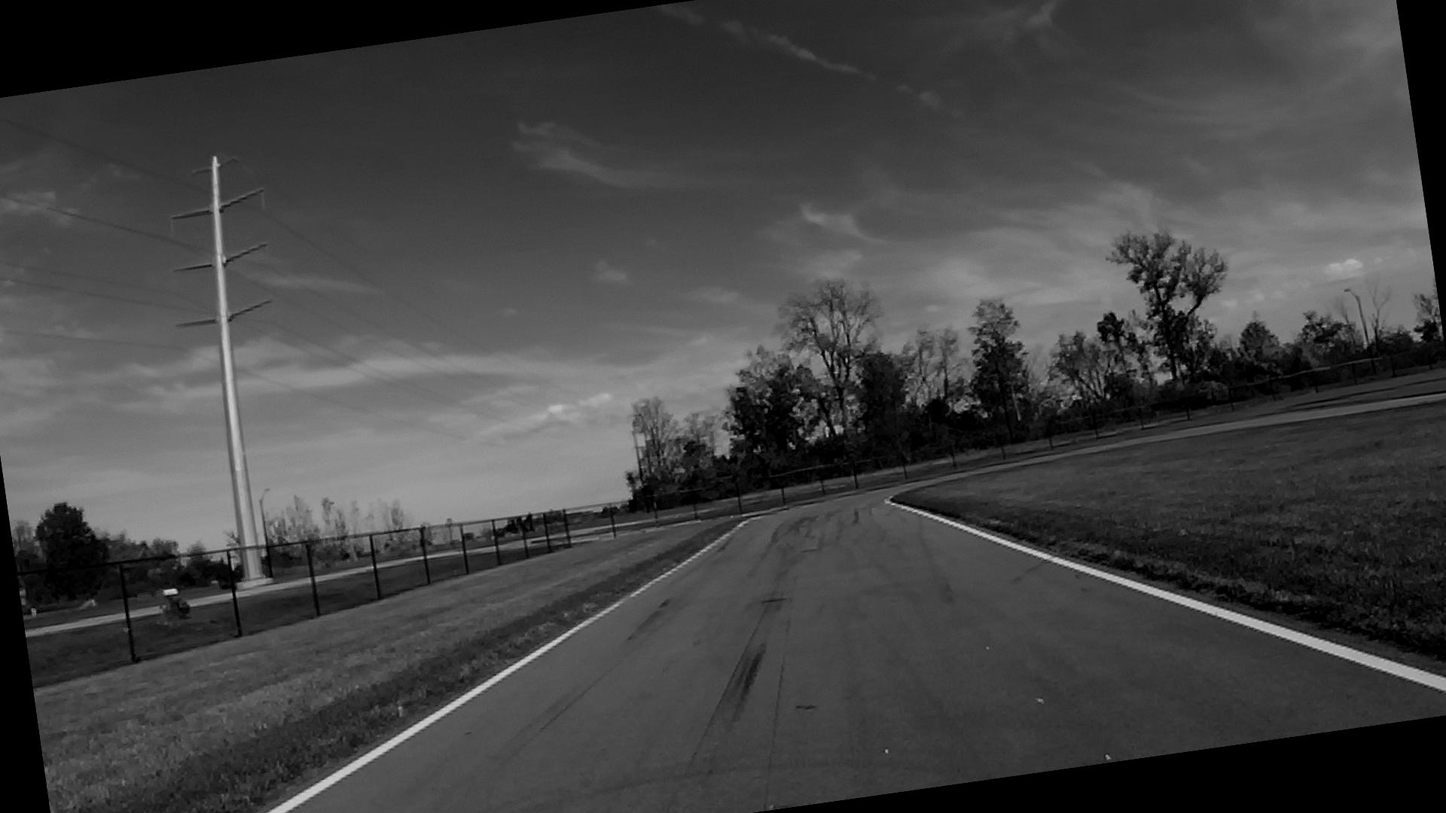white-line: (260, 514, 763, 813), (885, 496, 1446, 694)
